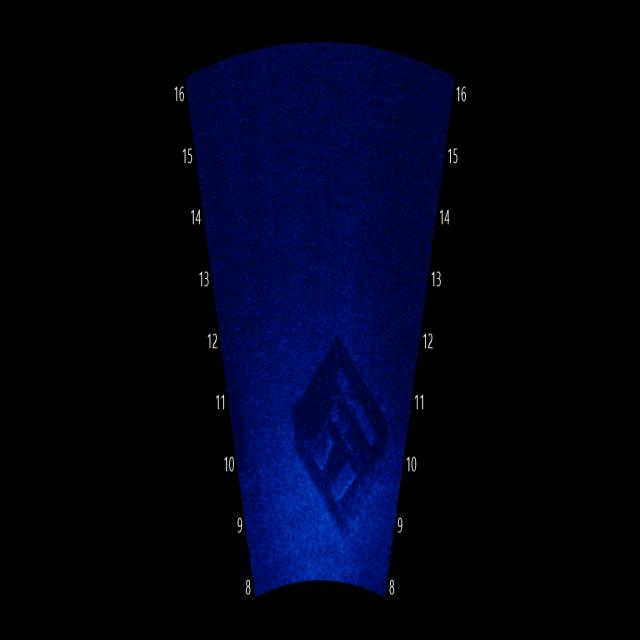circle: (238, 292, 273, 373)
square: (292, 320, 394, 540)
